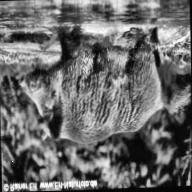boar: (18, 17, 189, 166)
